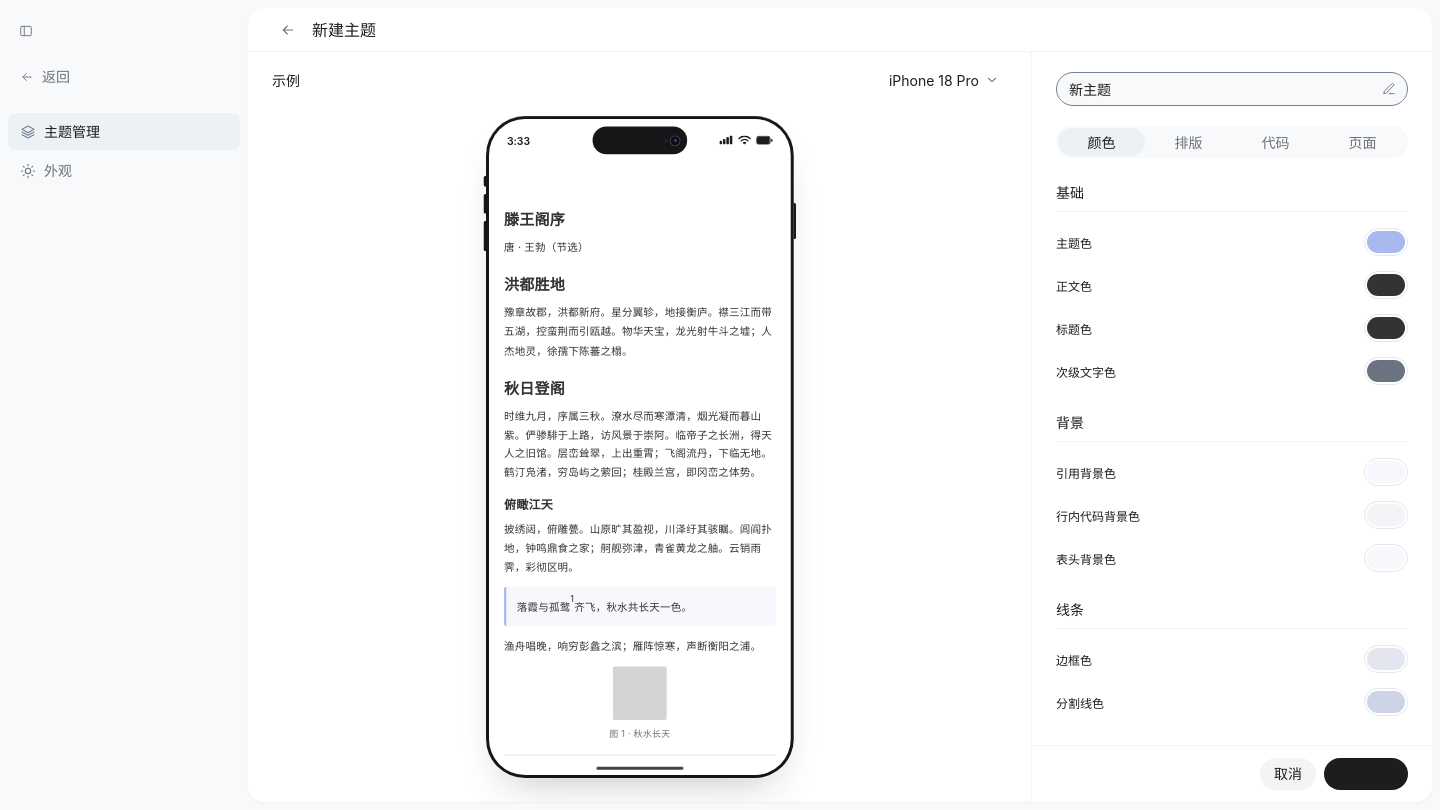
Test: 主题编辑器：新建 › 名称冲突时展示清理后的错误
Replace the text in the field named "主题名称" with "自定义甲" at (1220, 89), box top-left (1069, 73), bottom-right (1371, 105)
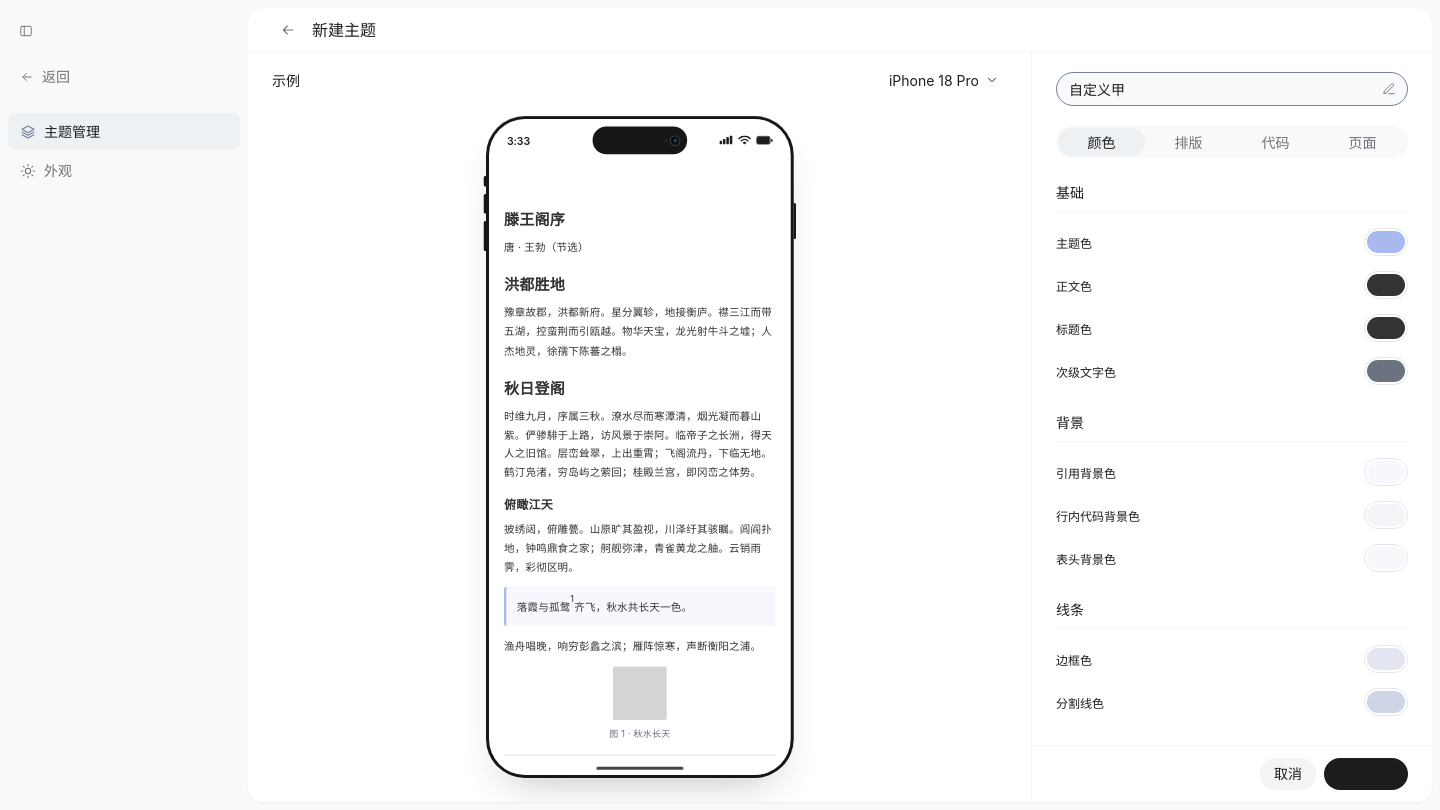
Click the button "创建主题".
click(1366, 774)  # box top-left (1324, 758), bottom-right (1408, 790)
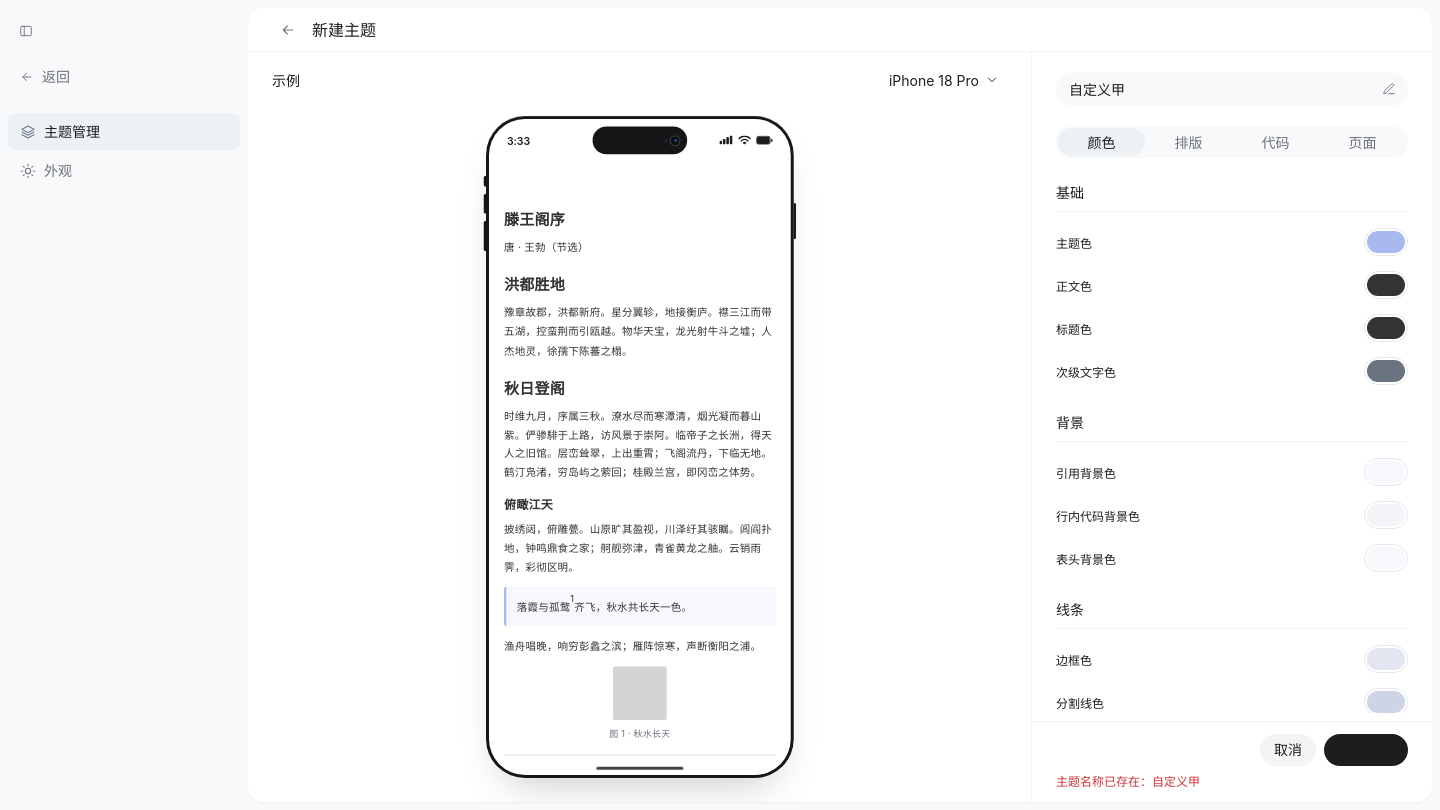
Check: the message reads "主题名称已存在：自定义甲", box top-left (1056, 774), bottom-right (1200, 789)
